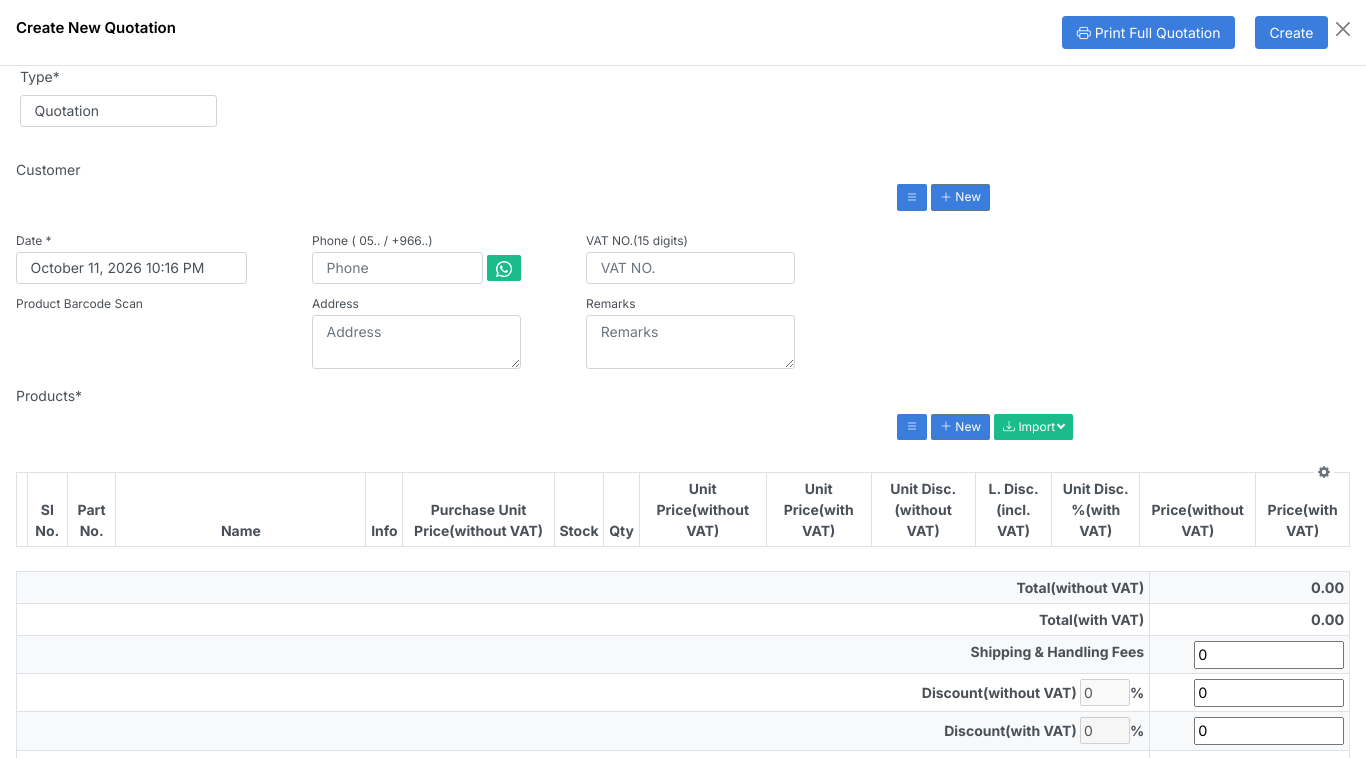
Quotation form: Import > From Quotations (integration) › imports only the ticked products, with edited quantities and source prices
Click the button with test id "import-dropdown-btn" at (1034, 427), box [994, 414, 1073, 440]
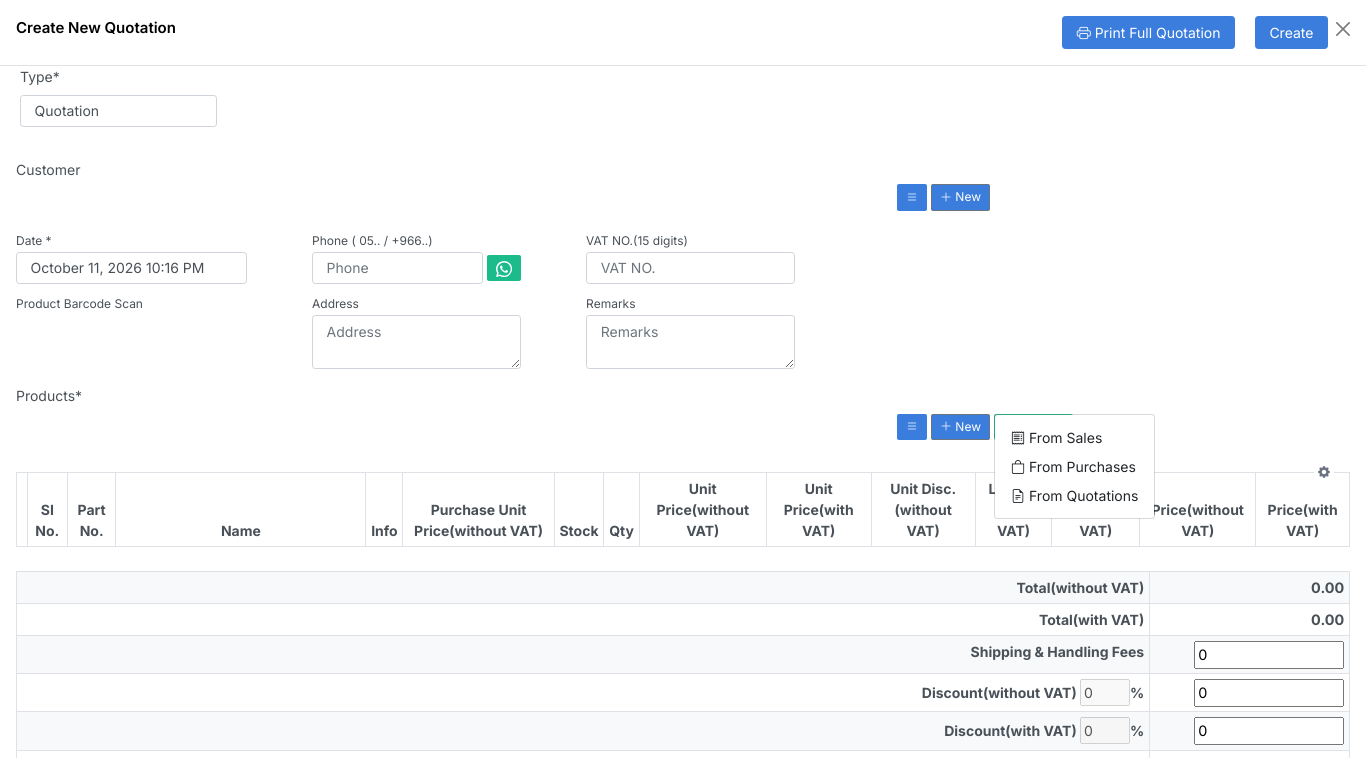
Click the button with test id "import-from-quotation-btn" at (1075, 495), box [1011, 487, 1138, 504]
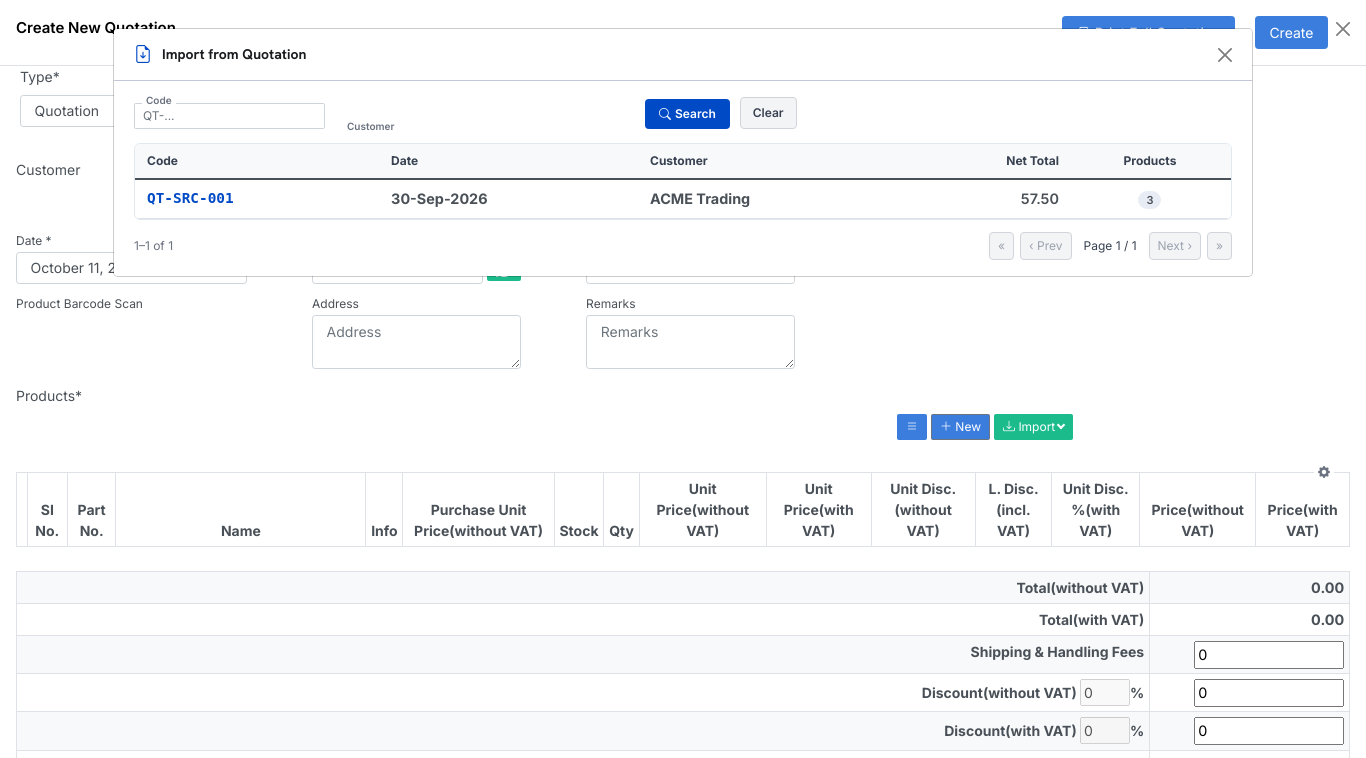
Click the text "QT-SRC-001" at (258, 199), box [135, 179, 381, 218]
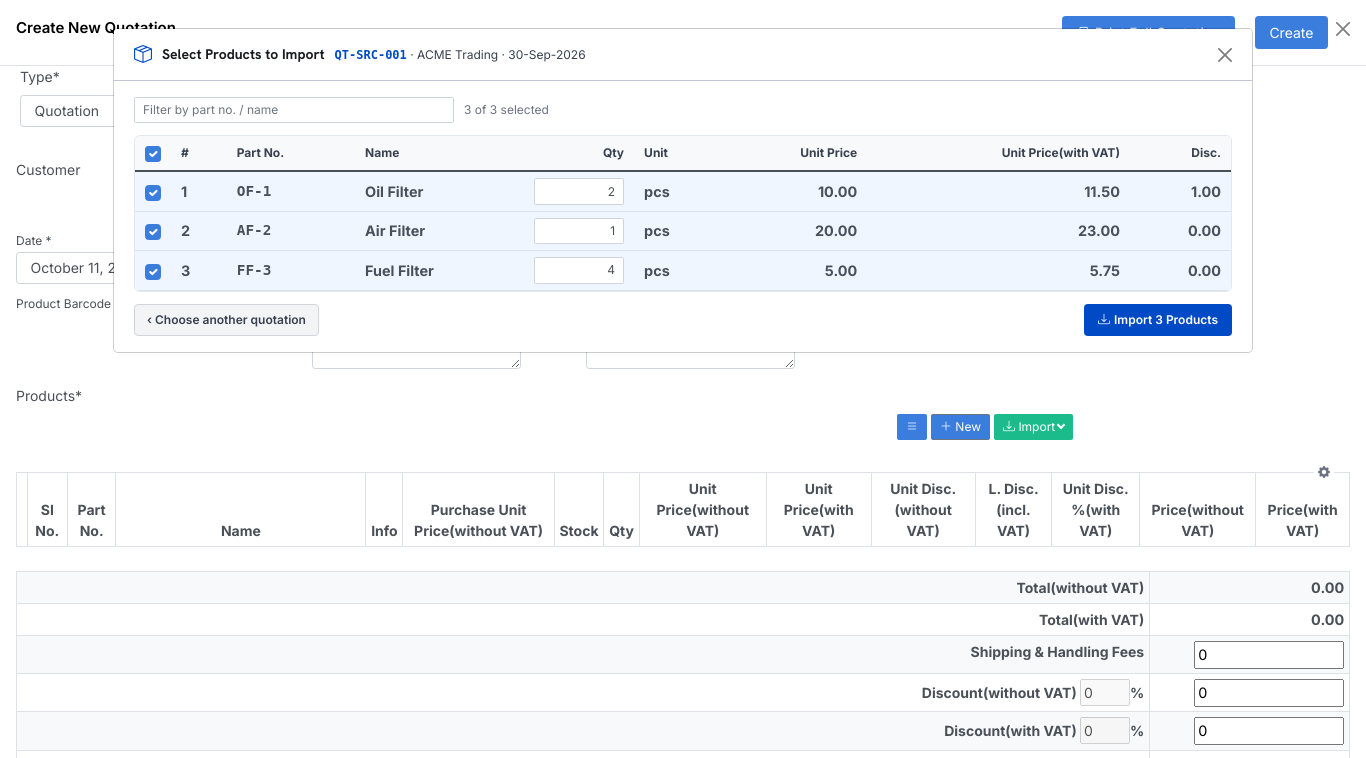
Now the heading "Select Products to Import" is shown, box [162, 46, 325, 63]
Click the checkbox with test id "qip-row-1" at (153, 232), box [145, 224, 161, 240]
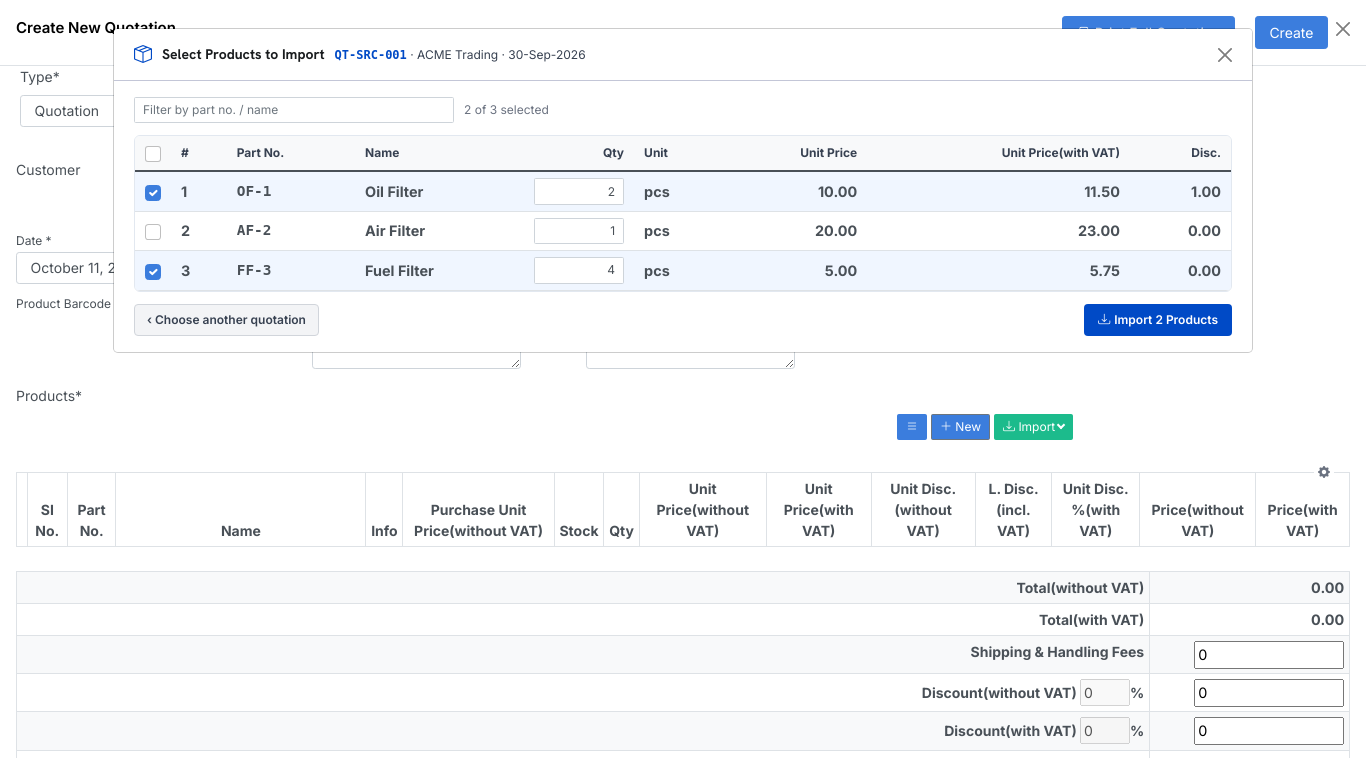
Replace the text in the number field in the row of "OF-1" with "5" at (579, 192), box [534, 178, 624, 205]
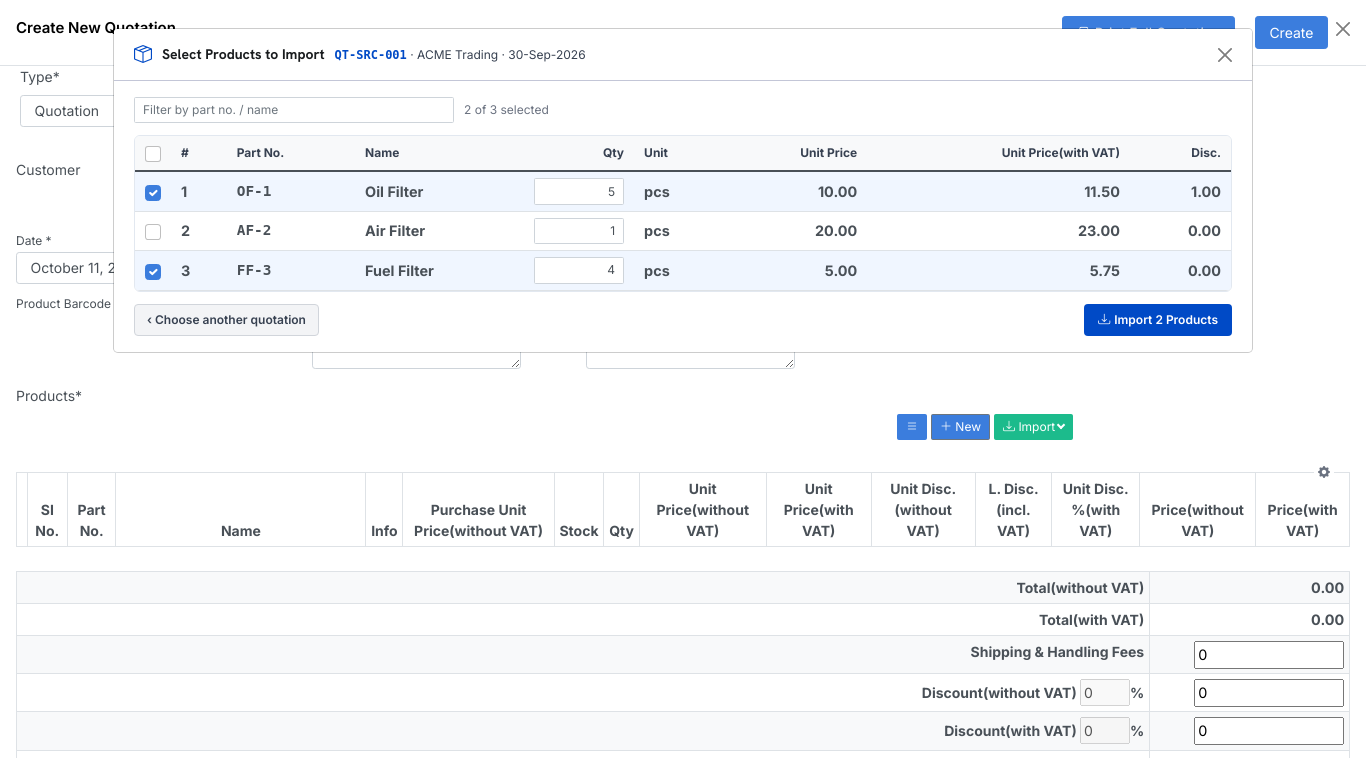
Click the button with test id "qip-import" at (1158, 320), box [1084, 304, 1232, 336]
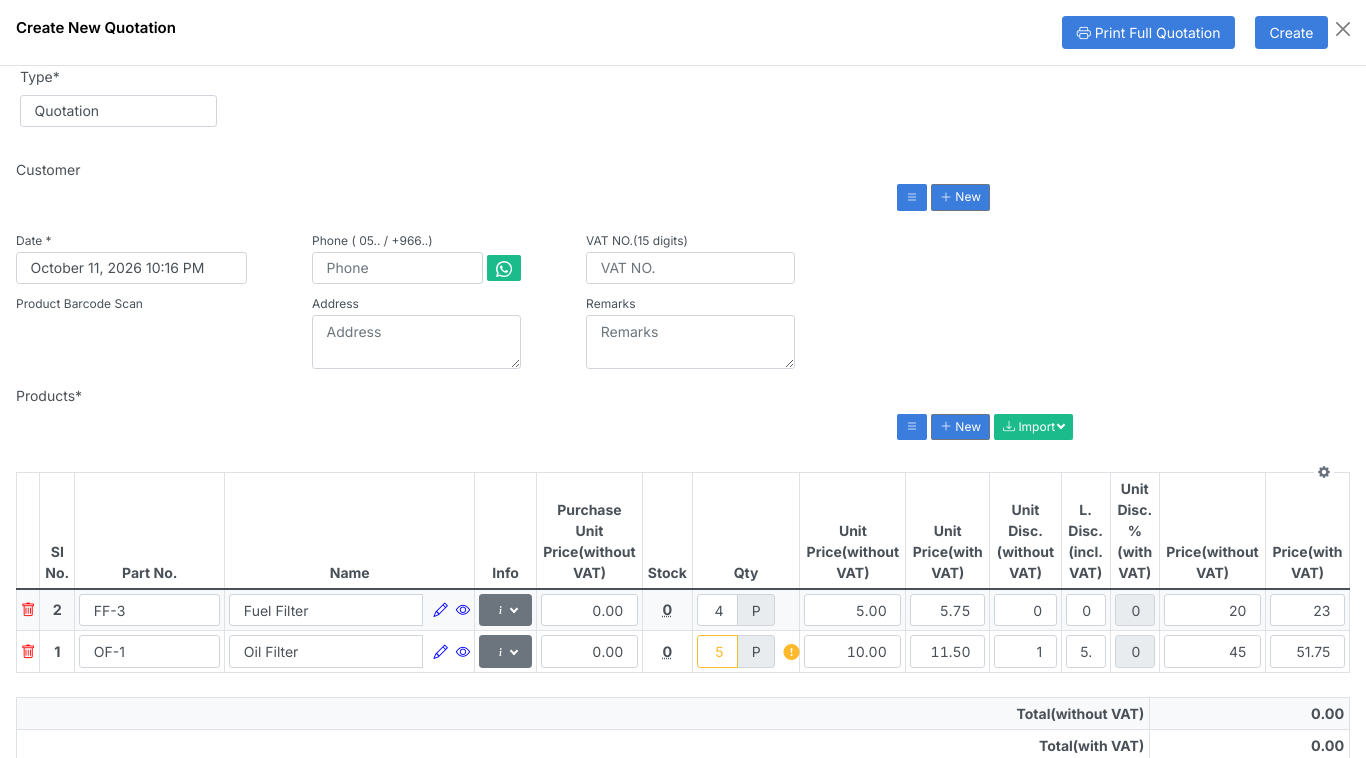
Now the heading "Select Products to Import" is gone
